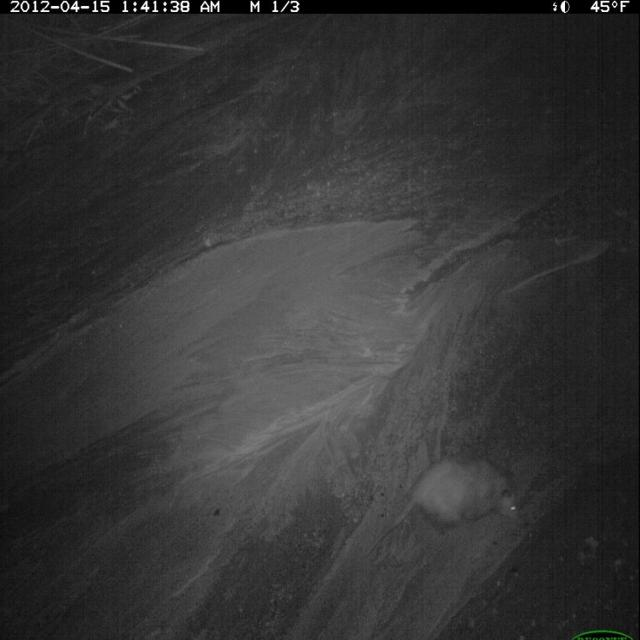opossum: (355, 450, 526, 572)
